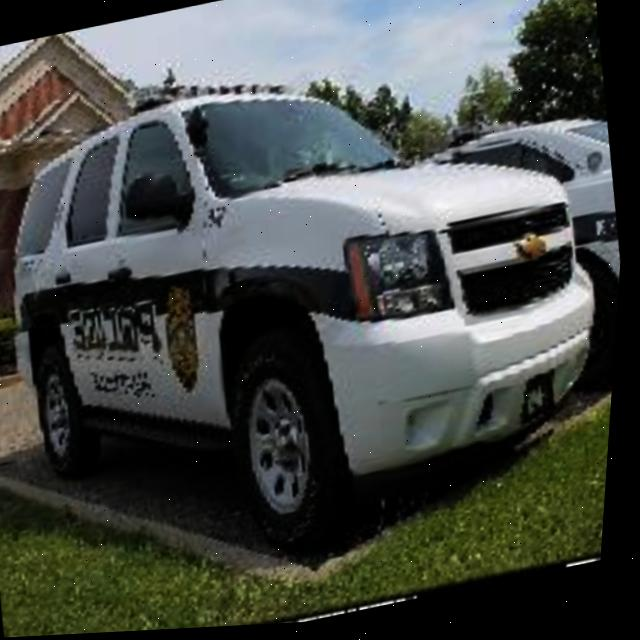emergency: (0, 21, 625, 574)
